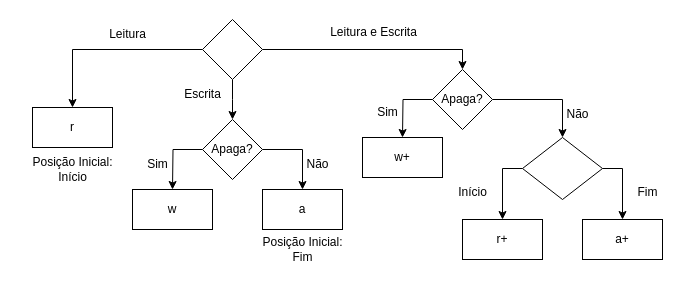
Some shapes in this 689 by 286 pixel diagram are drawn without their labels. Here are the shapes that lost their labels. From the top down, the box of each, then its label:
(202, 18, 262, 80): Para?
(522, 136, 602, 200): Posição Inicial
